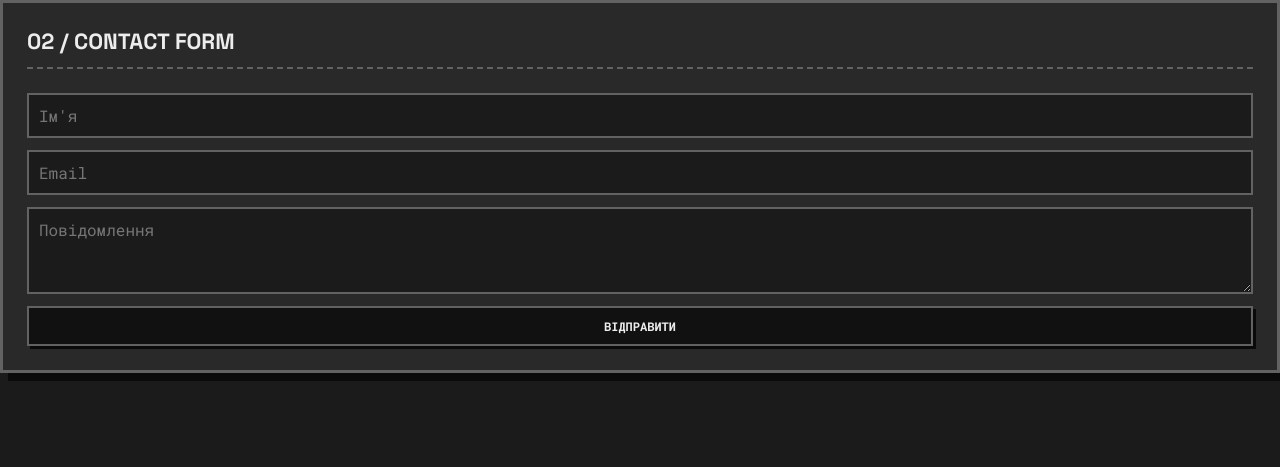
it: ContactForm › відображає помилки валідації
Click the button "Відправити" at (640,326), box [27, 306, 1253, 346]
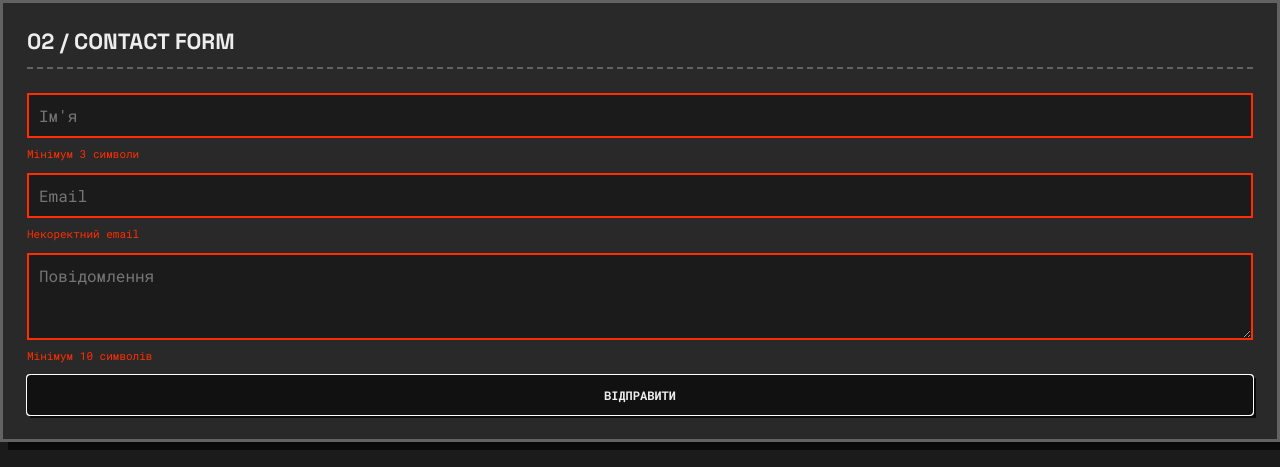
Result: the text "Мінімум 3 символи" is shown at [27, 146, 139, 161]
Result: the text "Некоректний email" is shown at [27, 226, 139, 241]
Result: the text "Мінімум 10 символів" is shown at [27, 348, 152, 363]
